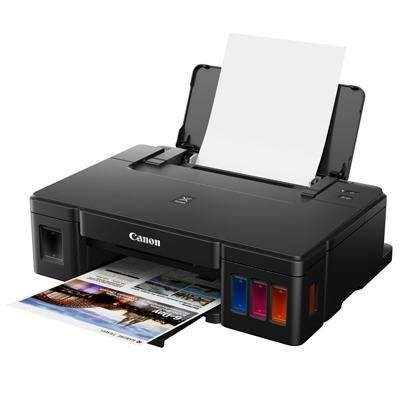Printer: (4, 32, 392, 347)
